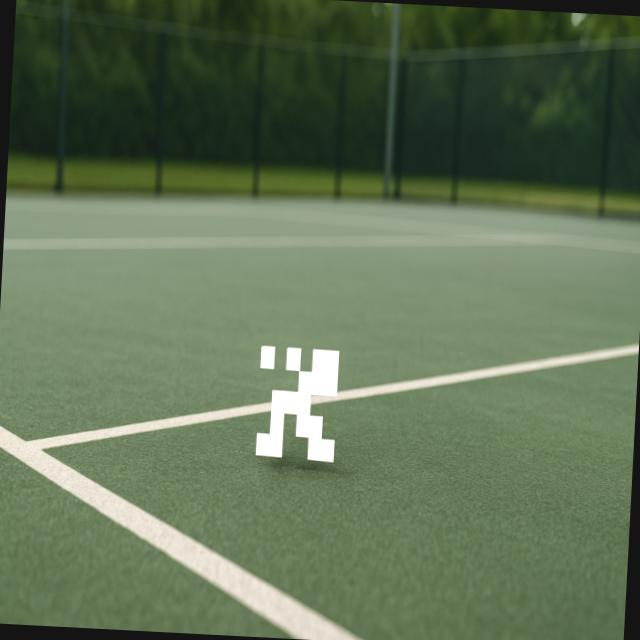marker: (245, 334, 348, 479)
